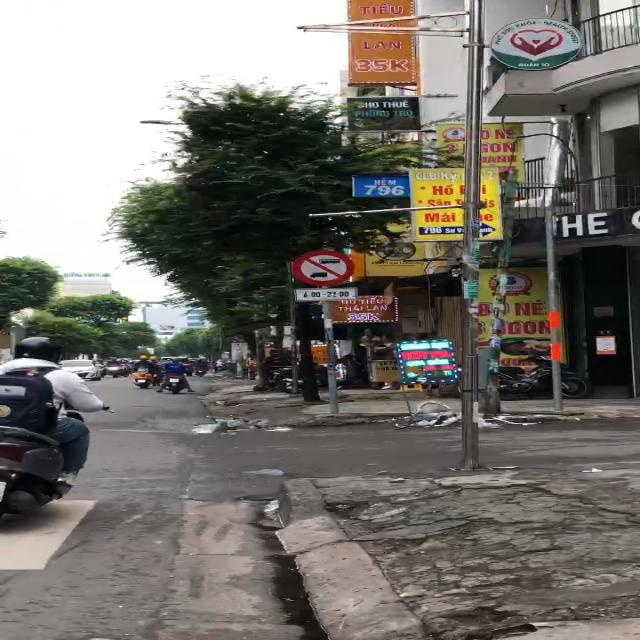Bien bao cam xe oto khach va xe oto tai: (285, 245, 365, 288)
